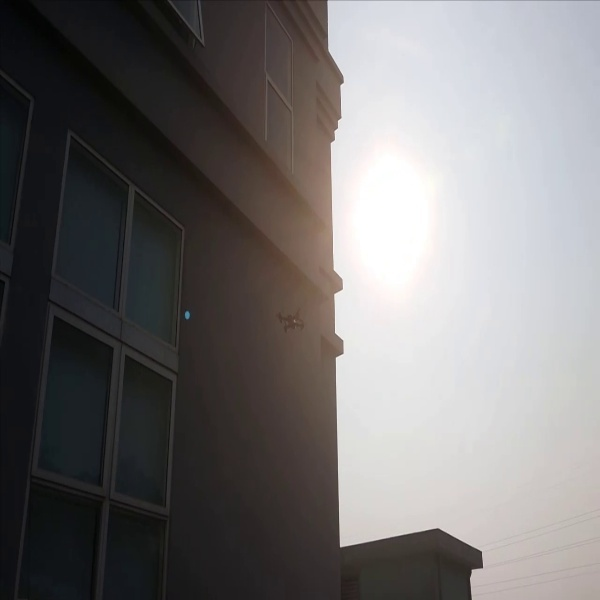drone: (269, 298, 315, 337)
